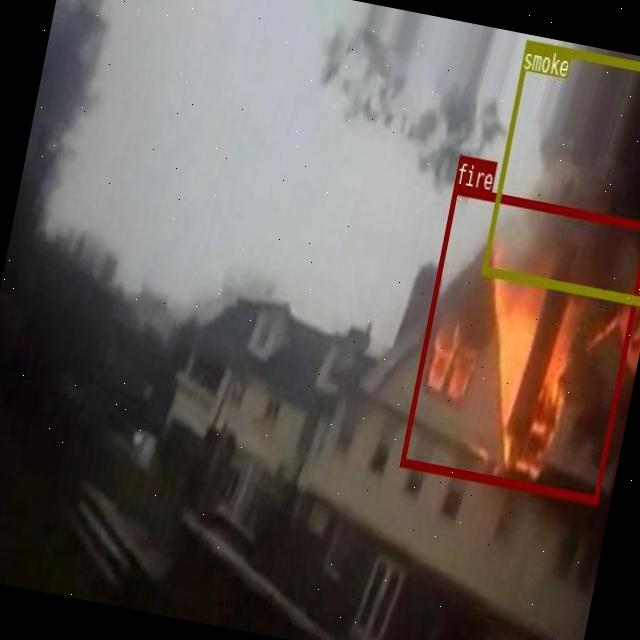fire: (400, 184, 640, 503)
smoke: (480, 38, 640, 304)
